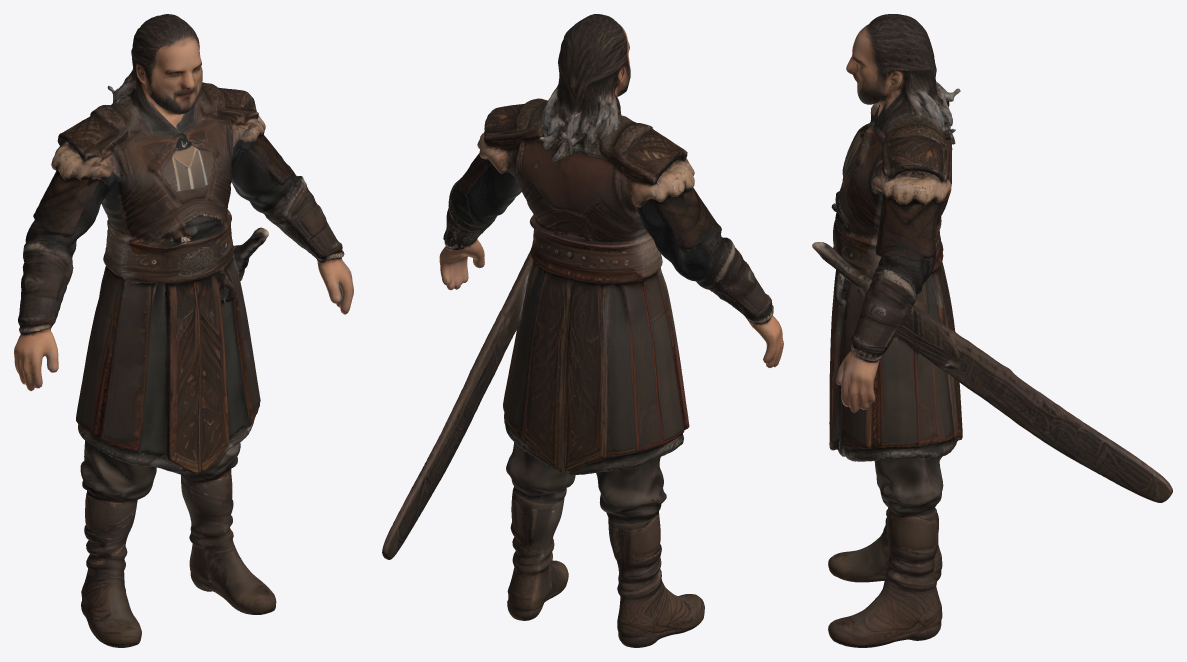
The model's file is medieval+armored+warrior+3d+model.obj.
3 renders of one model, left to right at view 1: azimuth 30°, elevation 25°; view 2: azimuth 150°, elevation 25°; view 3: azimuth 270°, elevation 25°, orthographic.
Visible parts, largest first — view 1: tripo_node_74b5c038-b0df-46f5-83c5-34c8c5b96dba; view 2: tripo_node_74b5c038-b0df-46f5-83c5-34c8c5b96dba; view 3: tripo_node_74b5c038-b0df-46f5-83c5-34c8c5b96dba.
Part boxes in pixels (x1,y1,x2,y2): tripo_node_74b5c038-b0df-46f5-83c5-34c8c5b96dba: (14, 14, 353, 647); tripo_node_74b5c038-b0df-46f5-83c5-34c8c5b96dba: (382, 14, 783, 647); tripo_node_74b5c038-b0df-46f5-83c5-34c8c5b96dba: (812, 14, 1172, 647).
Size of the model in its own units: 0.5844 by 1 by 0.5508.
Materials: 1 (1 with a texture image).
